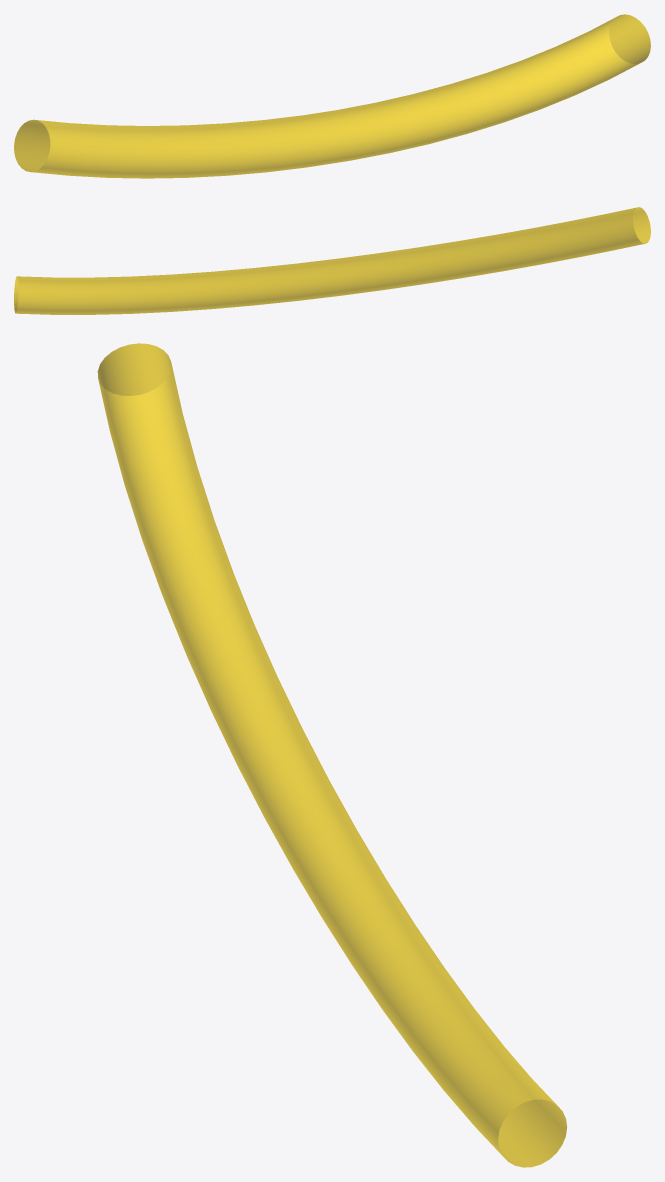
File: Event_75125125_track_71.fbx
3 views of the same model, one above another, from view 1: azimuth 30°, elevation 25°; view 2: azimuth 150°, elevation 25°; view 3: azimuth 270°, elevation 25° (orthographic). The views are drawn at different scales.
Parts seen in each view (by area): view 1: Model; view 2: Model; view 3: Model.
Part boxes in pixels (x1,y1,x2,y2): Model: (14,14,650,178); Model: (14,207,650,314); Model: (97,343,567,1167).
Size of the model in its own units: 0.6633 by 0.1859 by 0.2502.
